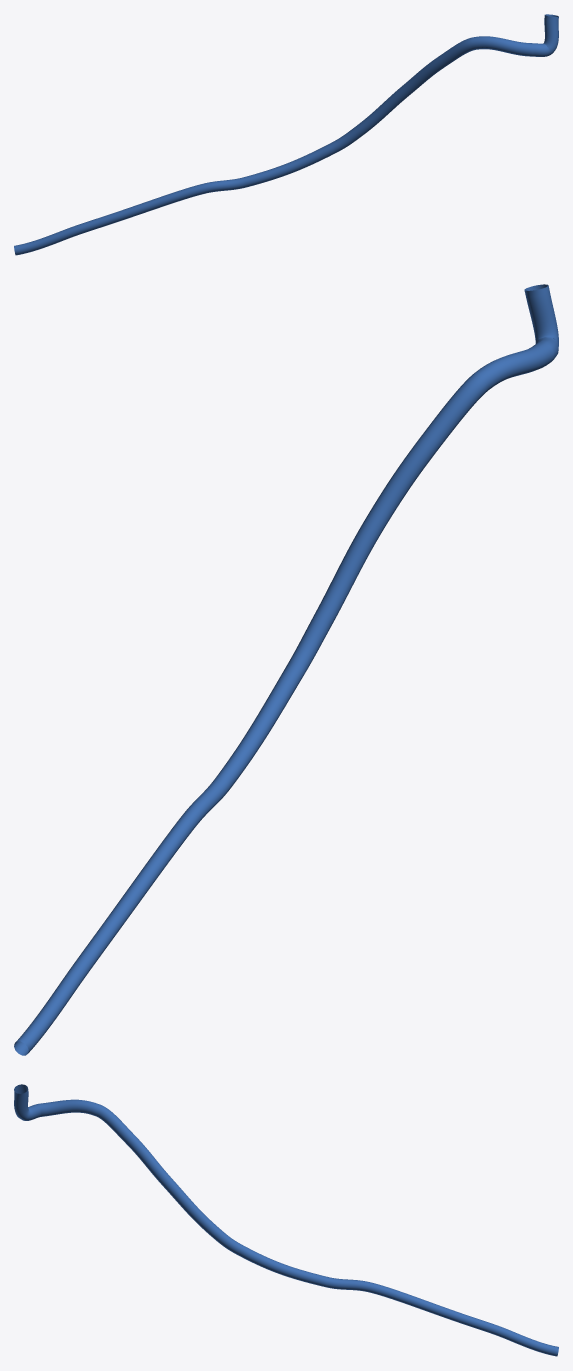
The picture shows the model from 3 angles, top to bottom: view 1: azimuth 90°, elevation 25°; view 2: azimuth 150°, elevation 25°; view 3: azimuth 270°, elevation 25°; orthographic projection. The views are drawn at different scales.
Visible parts, largest first — view 1: 右侧胸廓内静脉; view 2: 右侧胸廓内静脉; view 3: 右侧胸廓内静脉.
Boxes of the visible parts, x1,y1,x2,y2 form: 右侧胸廓内静脉: (14, 14, 558, 255); 右侧胸廓内静脉: (14, 284, 558, 1055); 右侧胸廓内静脉: (14, 1084, 558, 1356).
Bounding box in the file's own units: 0.0241 × 0.1093 × 0.2116.
